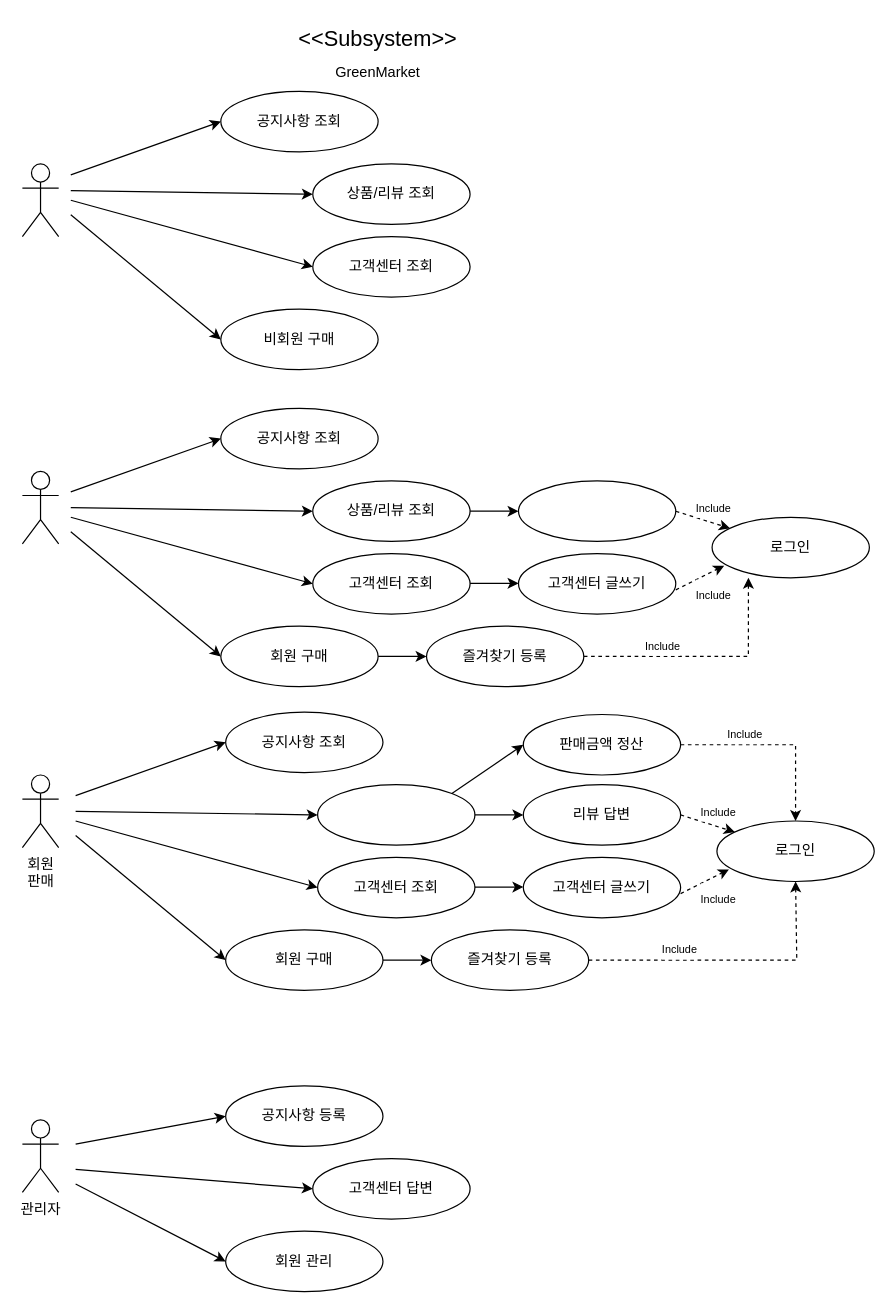
The diagram is 895 pixels wide and 1313 high, and some of its shapes have lost their labels. The box of each missing label's shape, as (x1, y1, x2, y2) in pixels:
리뷰 작성: (517, 480, 676, 541)
비회원 개인: (21, 163, 59, 237)
상품등록: (316, 783, 475, 845)
회원 개인: (21, 470, 59, 544)
